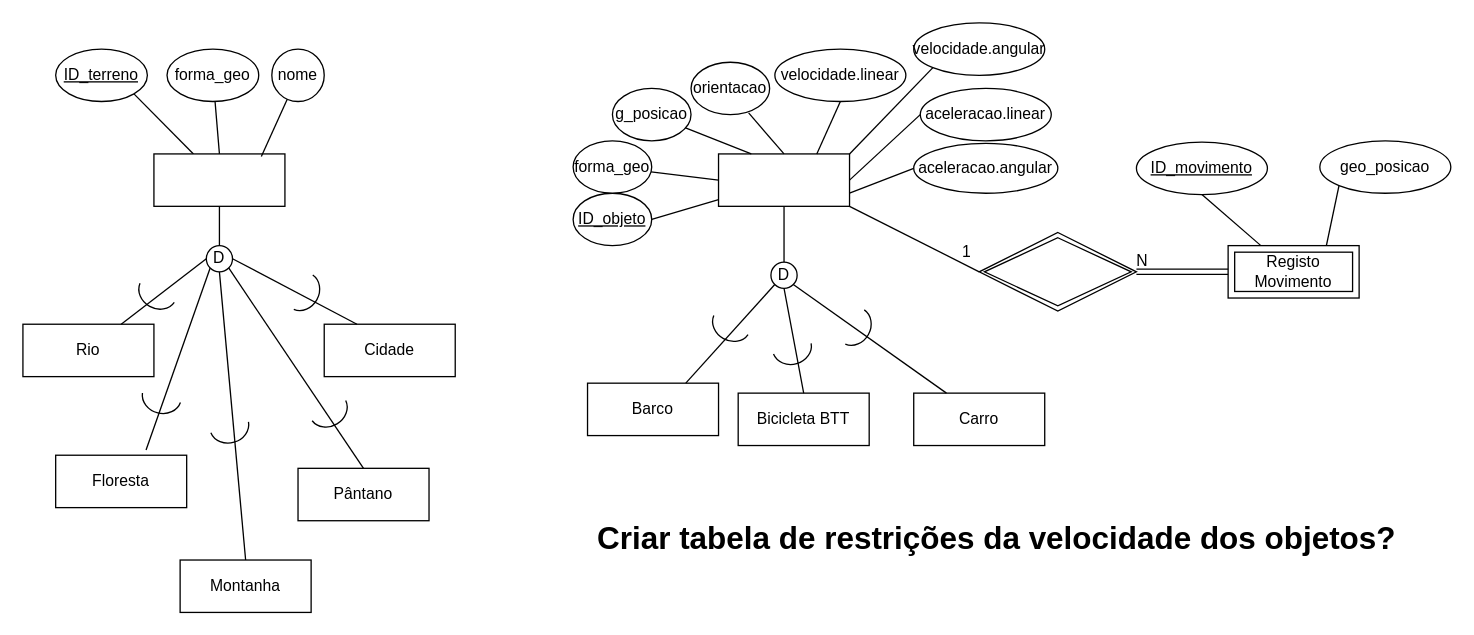
This 1474x635 diagram has some shape labels left out. Each missing label, with the centre of its shape:
"mantém" goes at [1057,271].
"Objeto móvel" goes at [783,179].
"Terreno" goes at [219,179].
